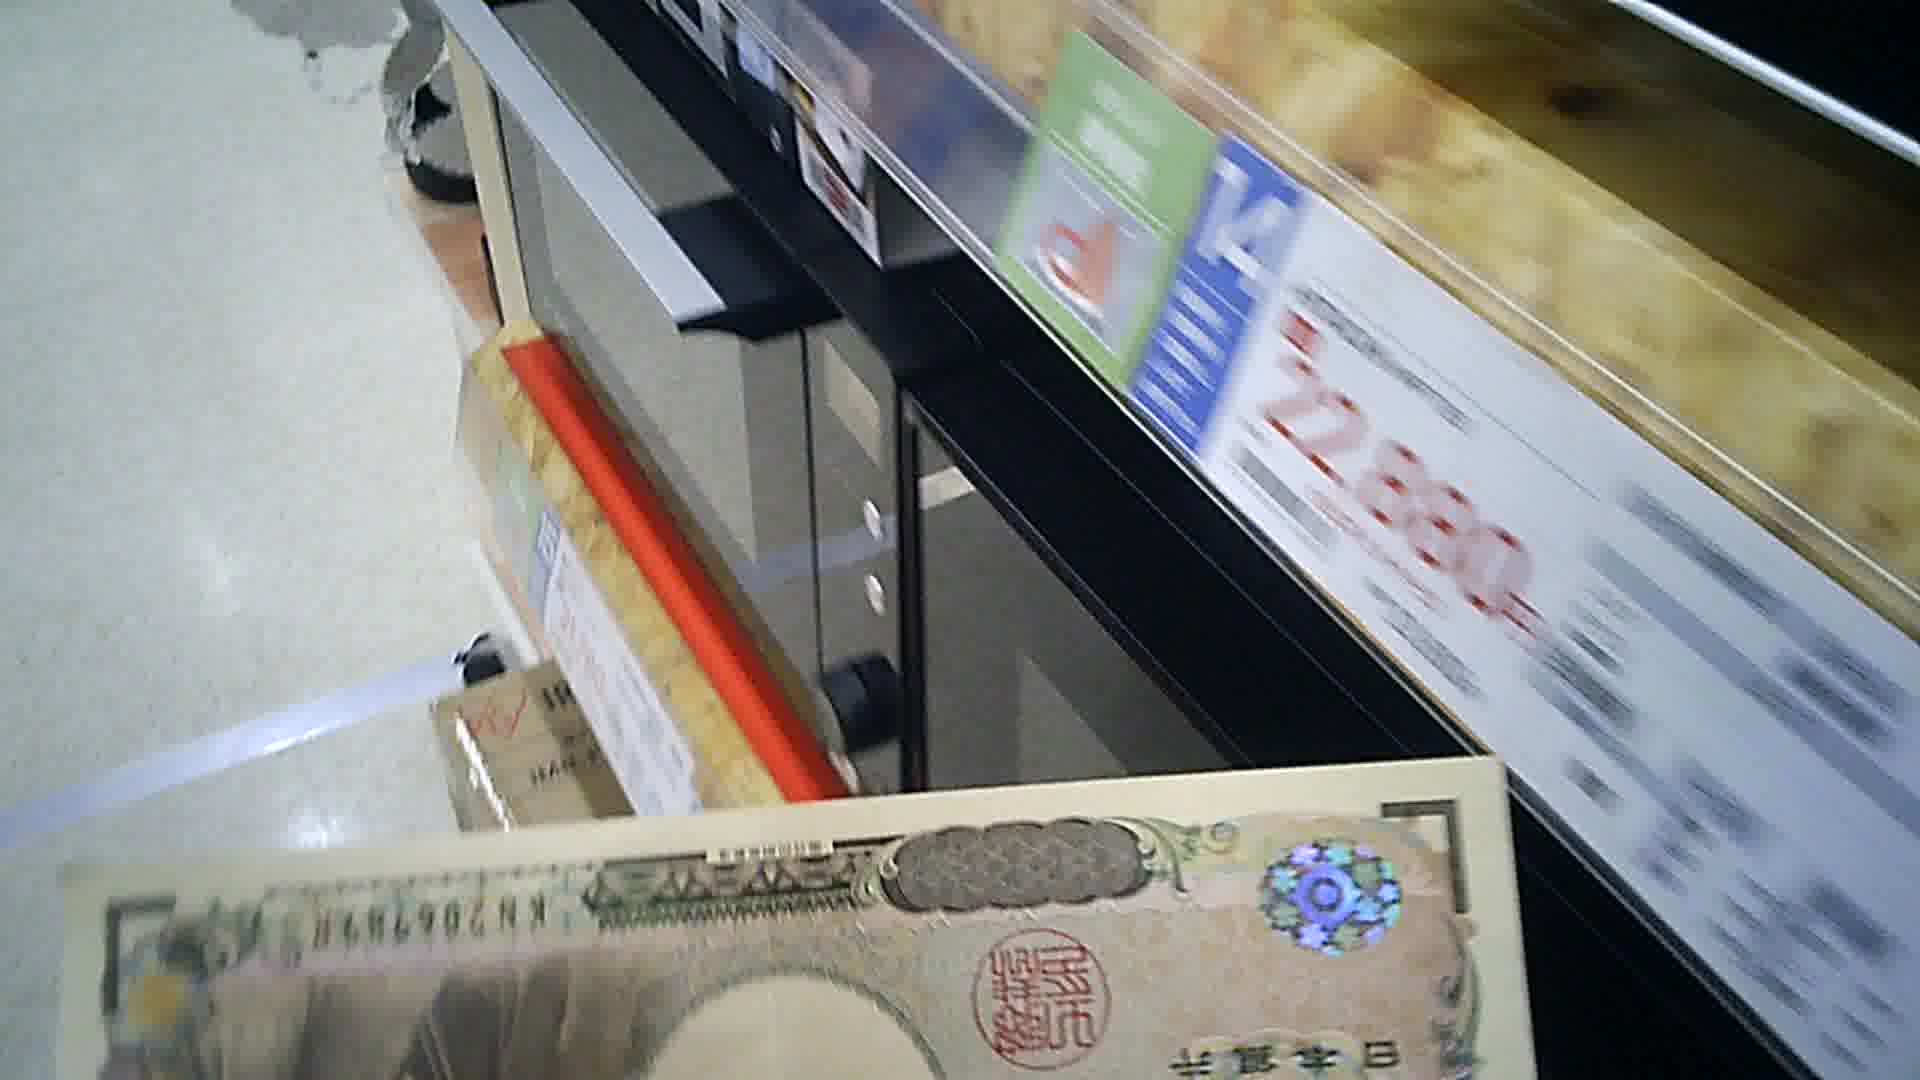10,000 Yen: (53, 781, 1451, 1079)
